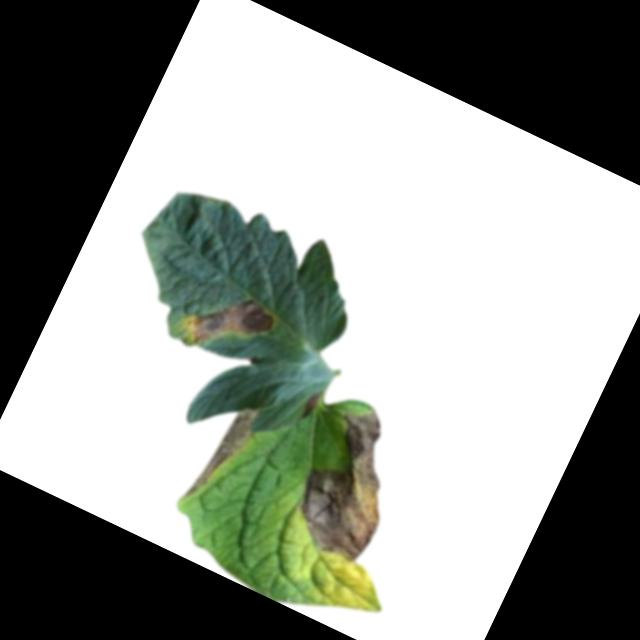Early_blight: (280, 395, 423, 568), (178, 276, 279, 372), (183, 395, 263, 510), (299, 388, 323, 421)
